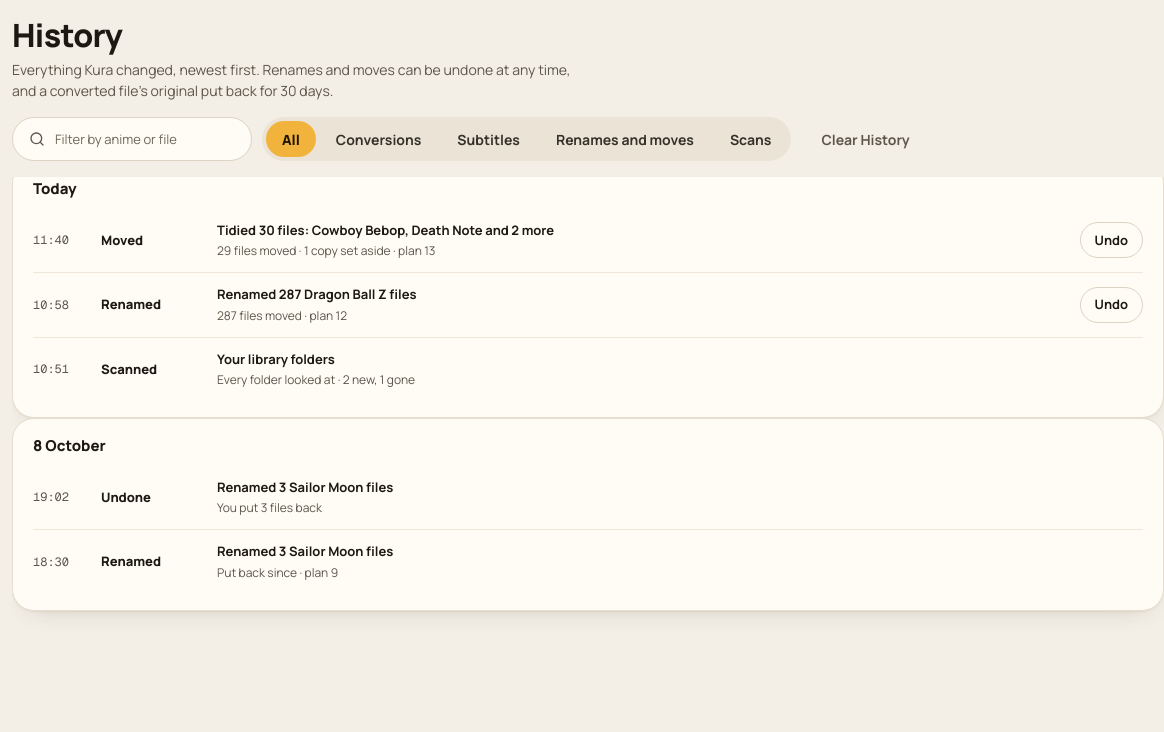
Test case: HistoryPage › finds what names an anime or file, and says when nothing does
Expected: the element "Today" is shown, left=12, top=161, right=1163, bottom=418
In the search field named "Filter History": (129, 139) left=55, top=118, right=203, bottom=160, type "trigun"
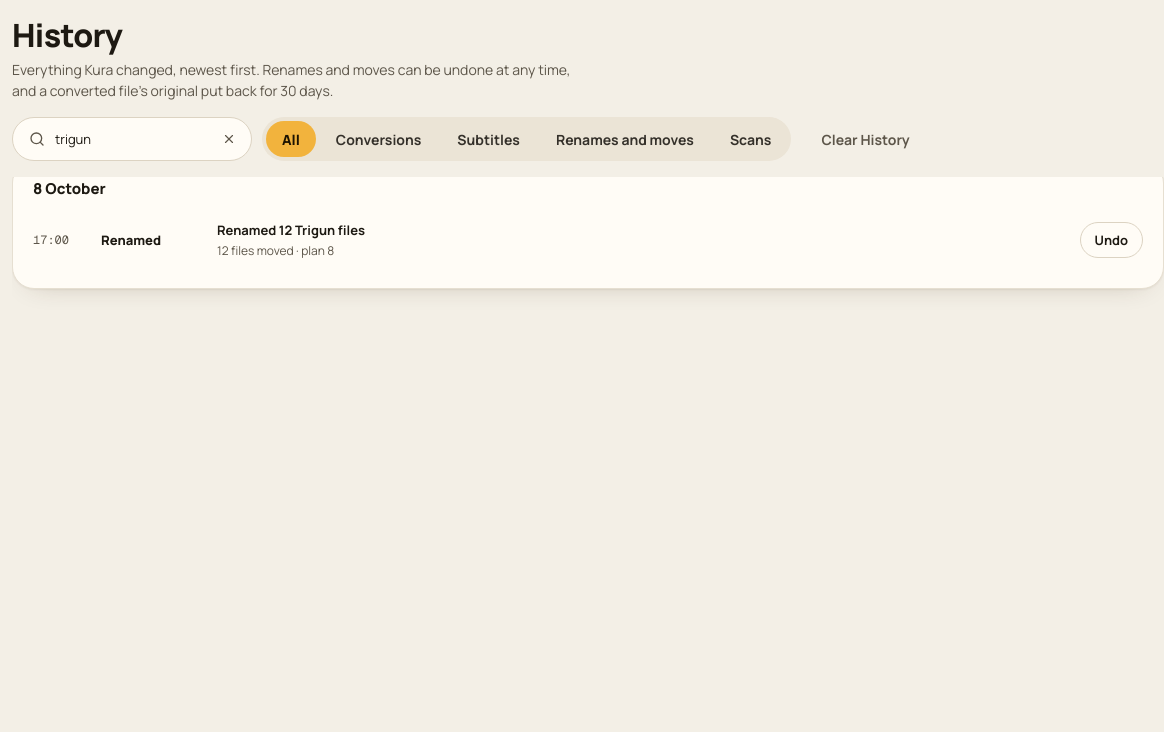
Result: the element "8 October" shows "Renamed 12 Trigun files" at left=217, top=221, right=365, bottom=239
Result: the heading "Today" is gone
Replace the text in the search field named "Filter History" with "Kestrel": (129, 139) left=55, top=118, right=203, bottom=160
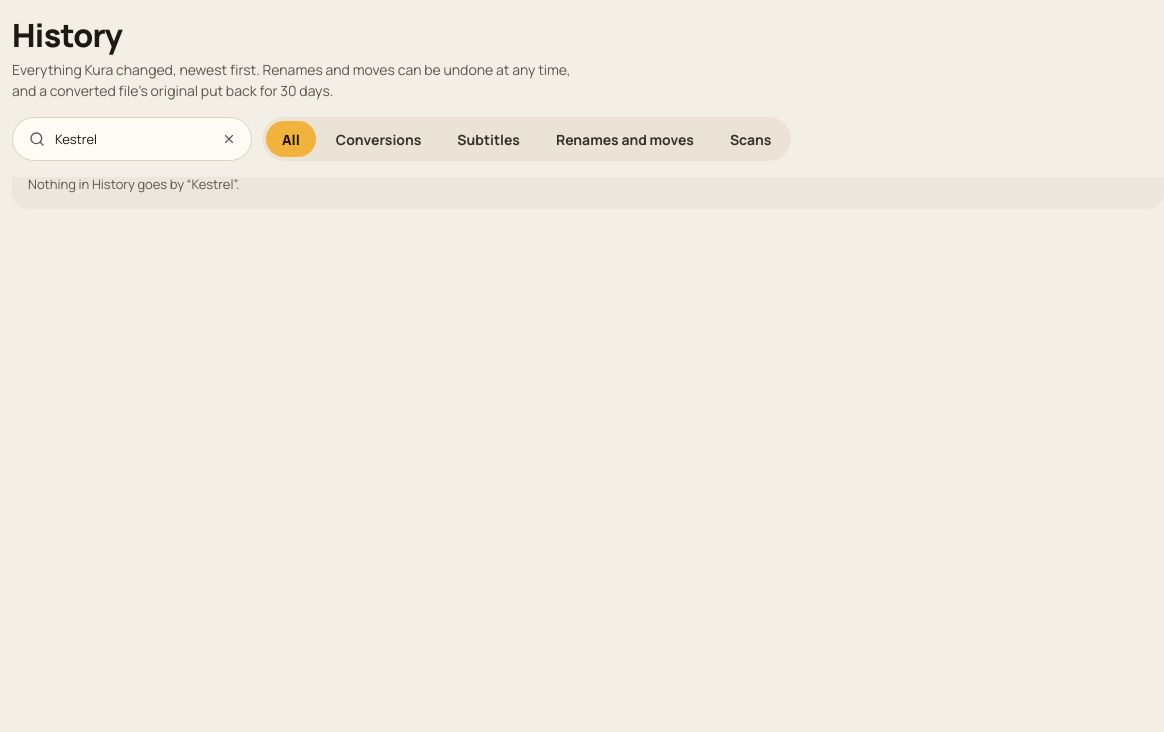
Result: the message reads "Nothing in History goes by “Kestrel”." at left=12, top=161, right=1163, bottom=209
